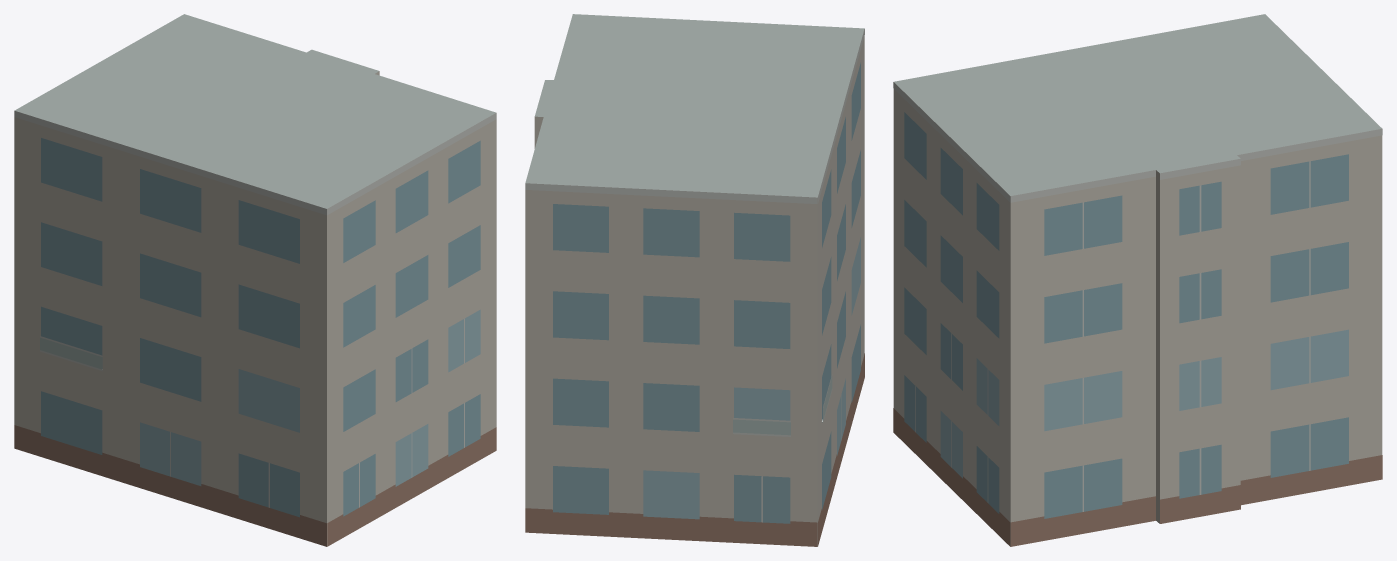
File: survey-upis-32598106.glb
3 views of the same model, side by side, from view 1: azimuth 30°, elevation 25°; view 2: azimuth 150°, elevation 25°; view 3: azimuth 270°, elevation 25° (orthographic). The views are drawn at different scales.
Visible parts, largest first — view 1: survey-upis-32598106.tmp; view 2: survey-upis-32598106.tmp; view 3: survey-upis-32598106.tmp.
Part boxes in pixels (x1,y1,x2,y2): survey-upis-32598106.tmp: (14,14,496,546); survey-upis-32598106.tmp: (525,14,864,546); survey-upis-32598106.tmp: (893,14,1382,546).
Size of the model in its own units: 14.38 by 12.9 by 16.31.
